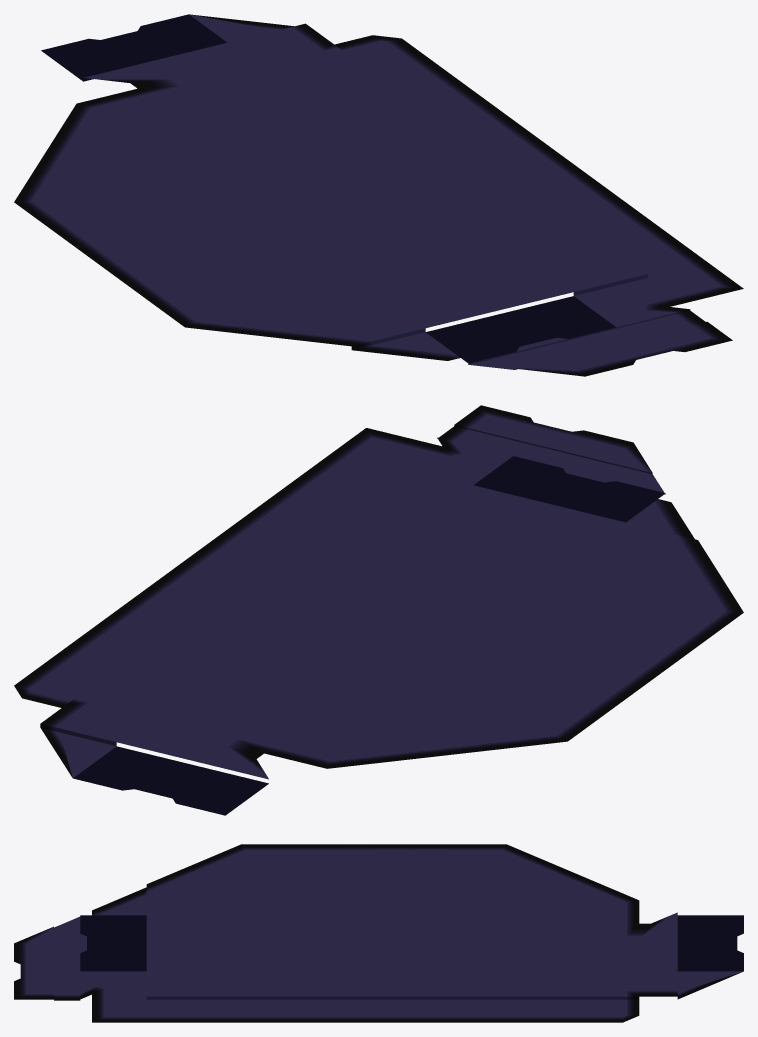
The picture shows the model from 3 angles, top to bottom: view 1: azimuth 30°, elevation 25°; view 2: azimuth 150°, elevation 25°; view 3: azimuth 270°, elevation 25°; orthographic projection. The views are drawn at different scales.
Parts seen in each view (by area): view 1: Joint_0_Object_0; view 2: Joint_0_Object_0; view 3: Joint_0_Object_0.
Part boxes in pixels (<box>): Joint_0_Object_0: <box>14,14,743,376</box>; Joint_0_Object_0: <box>14,405,743,815</box>; Joint_0_Object_0: <box>14,844,743,1022</box>.
Size of the model in its own units: 3125 by 34 by 5500.
1 material, 1 textured.
